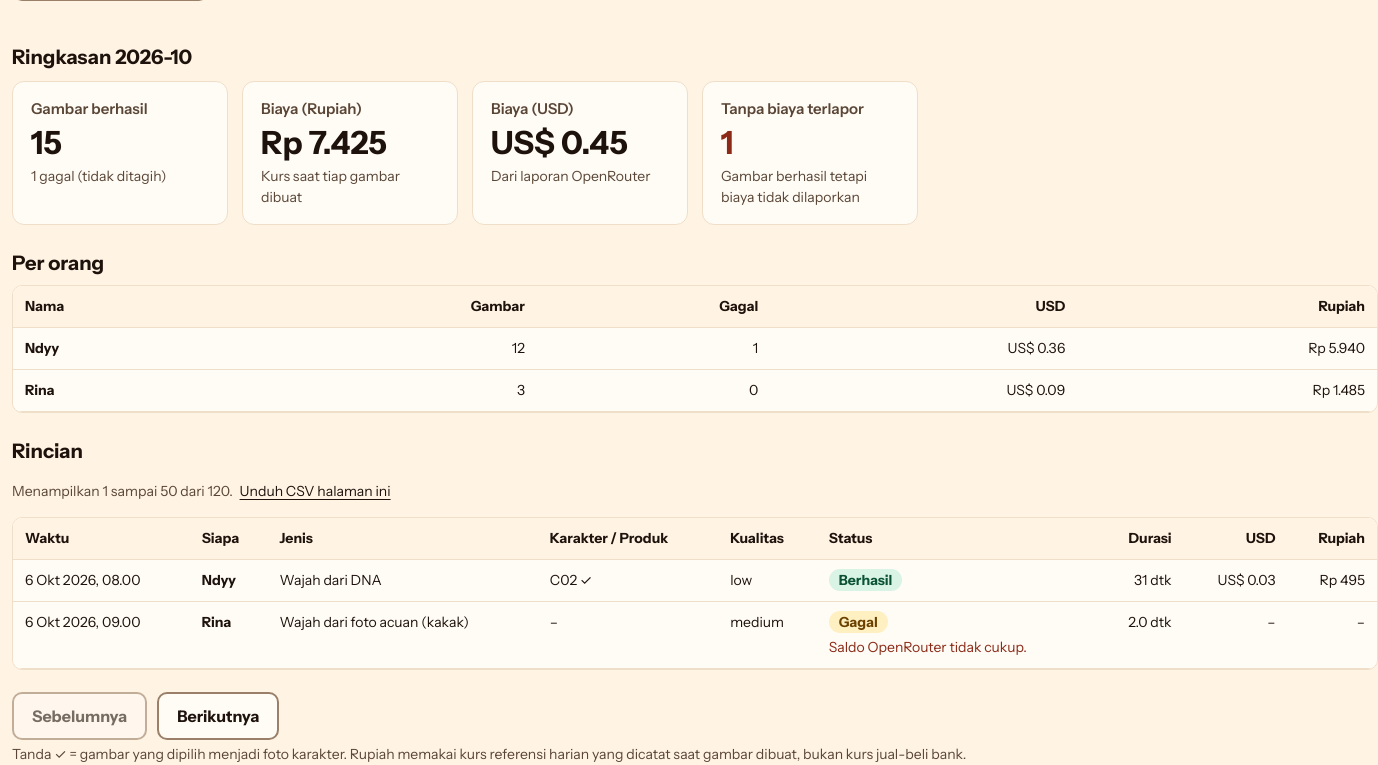
halaman Riwayat generate › halaman berikutnya memakai offset 50; tombol nonaktif di ujung
(page scrolled)
Expected: the table with test id "tabel-rincian" is shown, [13,518,1377,669]
Expected: the button "Sebelumnya" is disabled, [12,692,147,740]
Click the button "Berikutnya" at (218, 716), box [157,692,279,740]
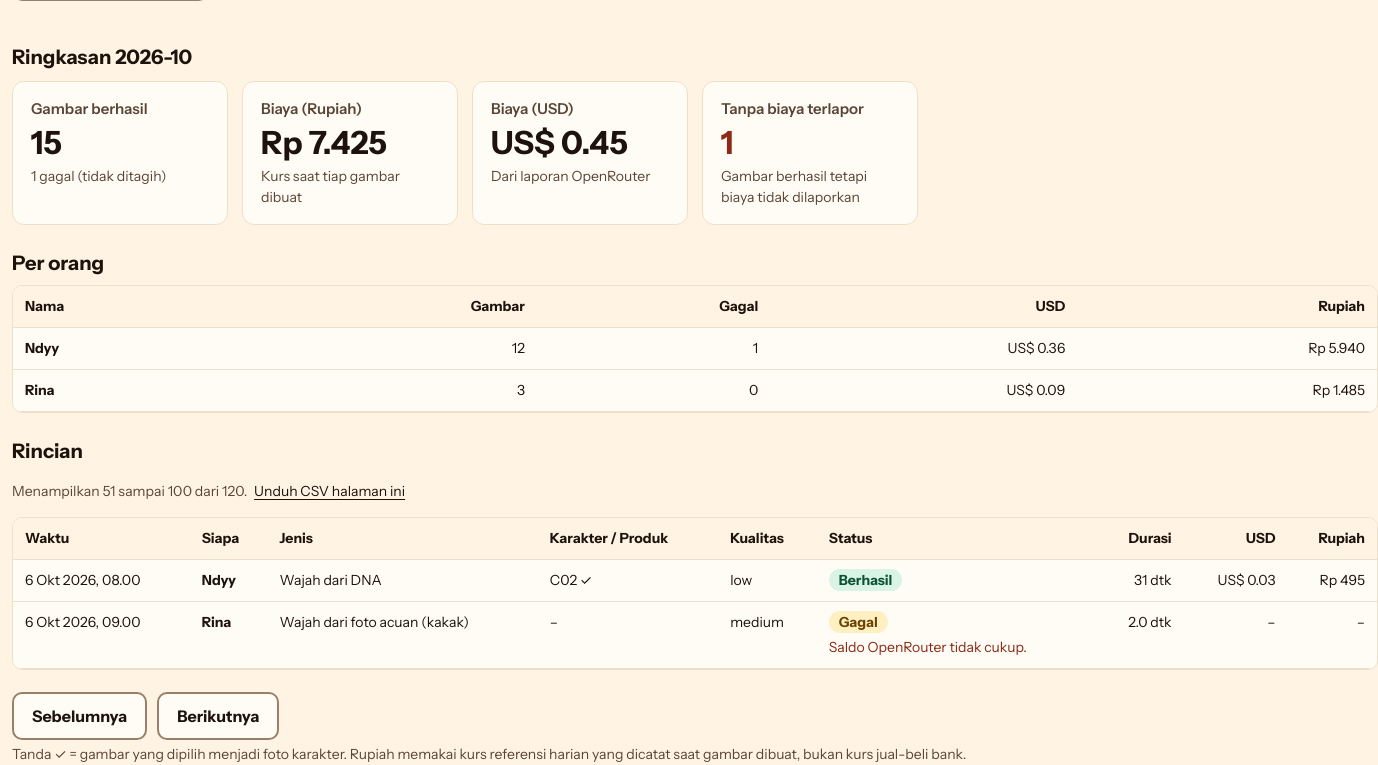
Result: the element with test id "info-halaman" shows "51 sampai 100 dari 120" at [12,473,409,509]
